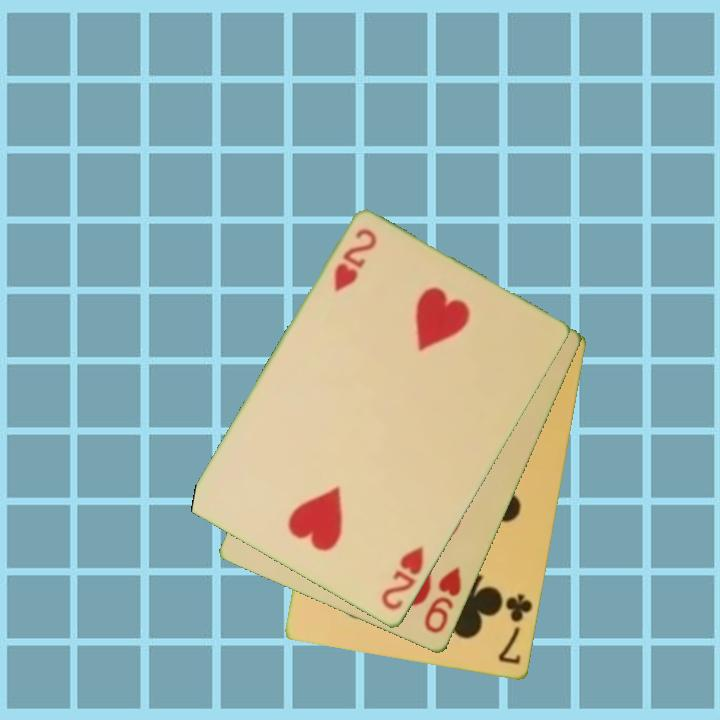2h: (377, 543, 427, 614), (330, 225, 380, 296)
7c: (495, 590, 536, 668)
9h: (421, 564, 465, 637)
